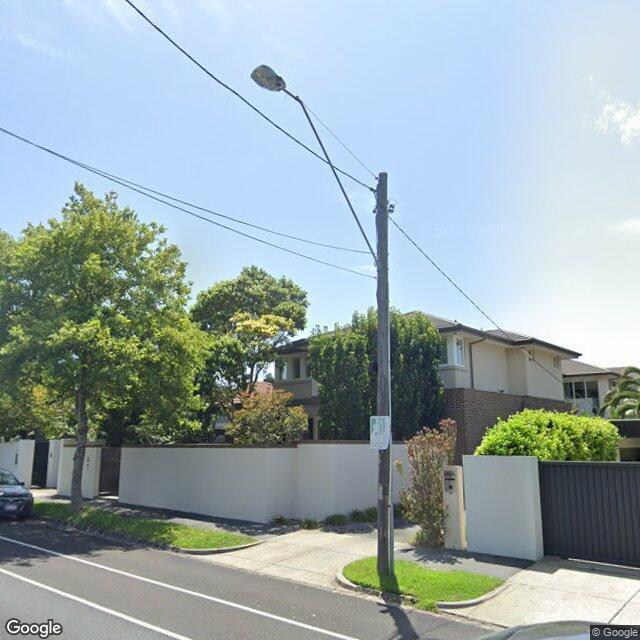streetlight: (250, 64, 382, 270)
timber-pole: (377, 172, 394, 575)
